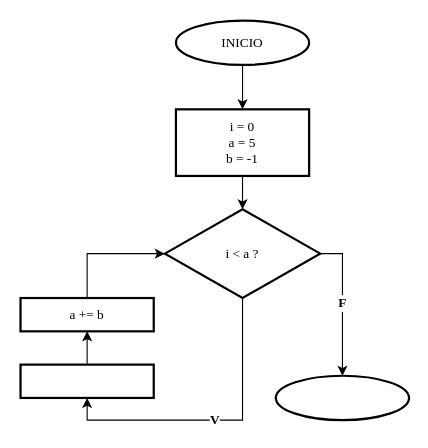
Image size: 428x448. Some labels were removed from this diagram. The shapes that lost their labels are listed below. From the top down, each one's box as (x1, y1, x2, y2) in pixels, then its label:
(19, 363, 154, 398): i++
(274, 374, 410, 421): FIM
